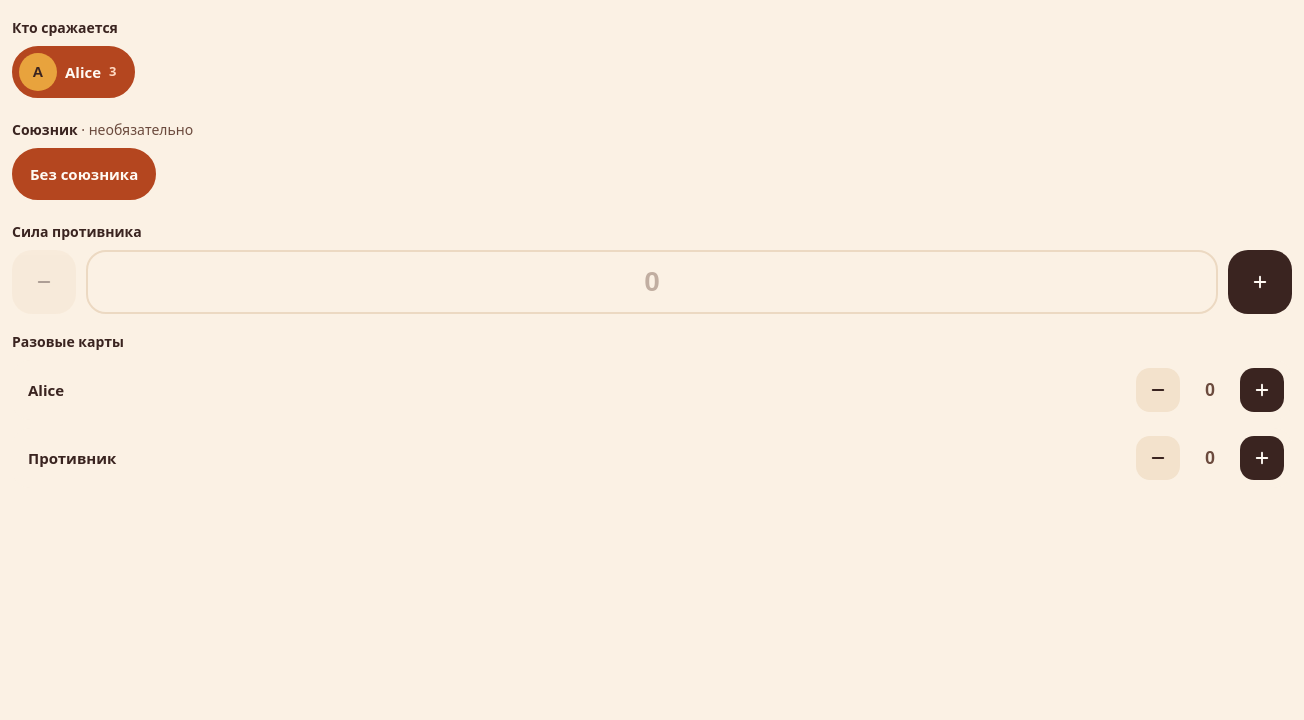
Test: CombatMode › starts with the current player and steps the monster power
Expected: the radio button with aria-label "Alice, сила 3" is checked, top-left (12, 46), bottom-right (134, 98)
Expected: the button named "Сила противника: меньше" is disabled, top-left (12, 250), bottom-right (76, 314)
Click the button named "Сила противника: больше" at (1260, 282), box top-left (1228, 250), bottom-right (1292, 314)
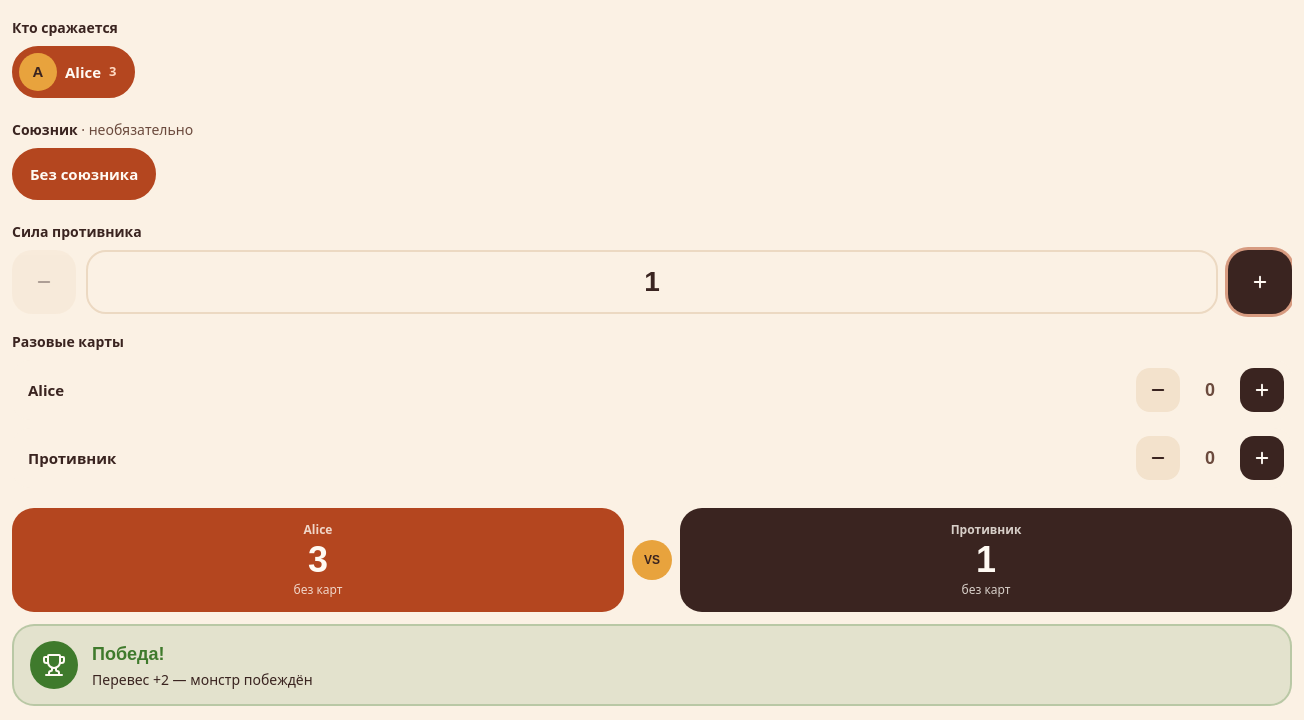
Click the button named "Сила противника: больше" at (1260, 282), box top-left (1228, 250), bottom-right (1292, 314)
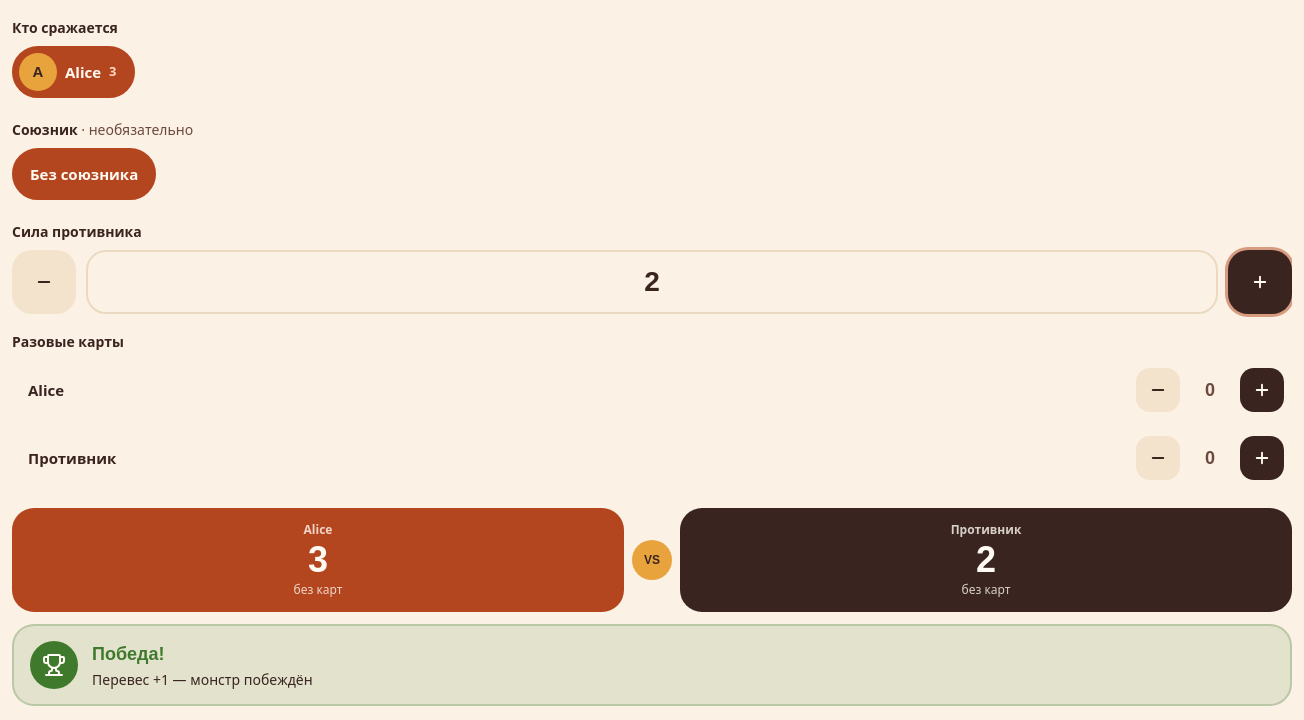
Result: the message shows "Победа" at top-left (92, 644), bottom-right (164, 664)
Result: the number field labelled "Сила противника" holds "2" at top-left (86, 250), bottom-right (1218, 314)
